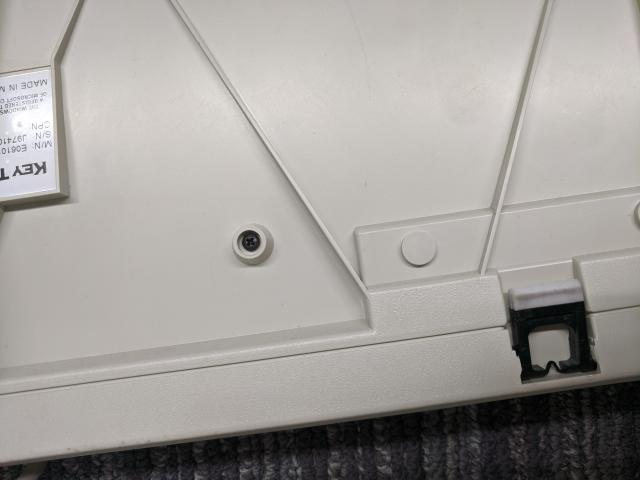CRS: (240, 231, 262, 251)
